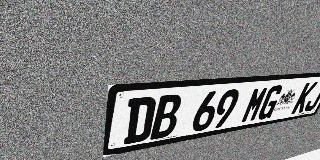6: (190, 90, 222, 133)
9: (210, 89, 242, 129)
B: (150, 94, 183, 140)
D: (123, 96, 157, 145)
G: (256, 85, 285, 121)
J: (302, 81, 320, 112)
K: (291, 82, 318, 114)
M: (240, 86, 270, 123)
